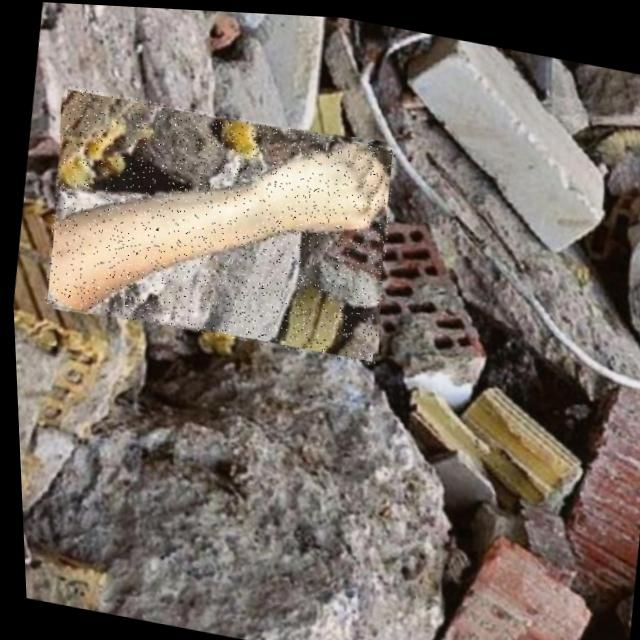Person in Rubble: (32, 83, 402, 363)
